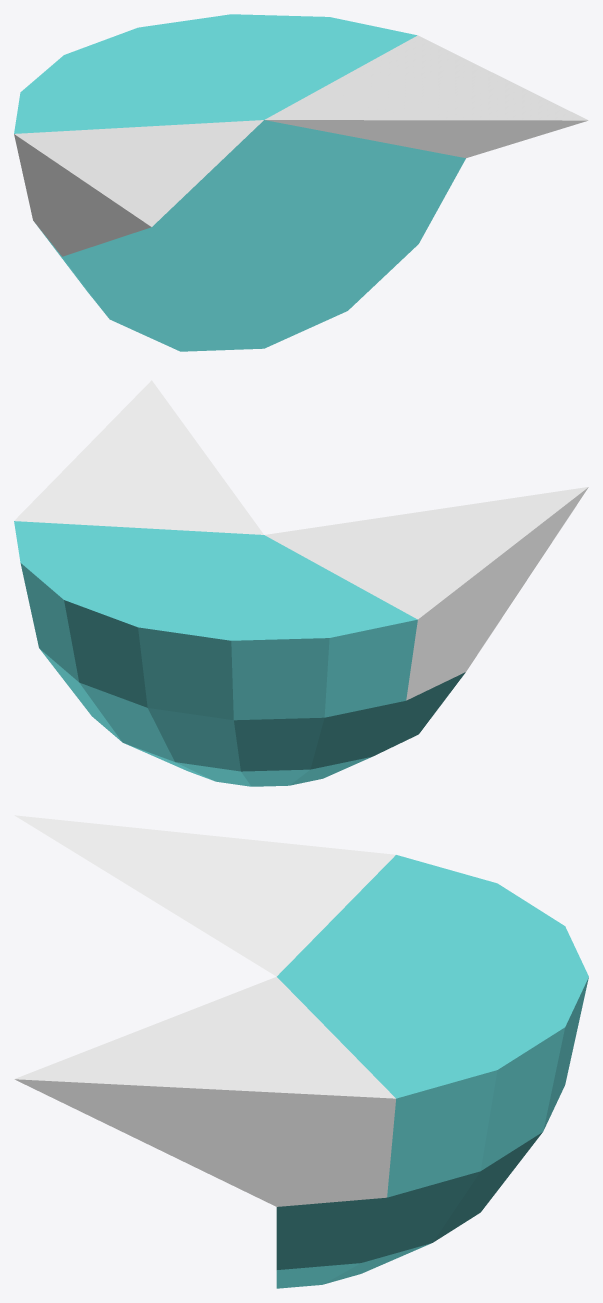
File: Mask.fbx
3 renders of one model, top to bottom at view 1: azimuth 30°, elevation 25°; view 2: azimuth 150°, elevation 25°; view 3: azimuth 270°, elevation 25°, orthographic. The views are drawn at different scales.
Visible parts, largest first — view 1: Sphere; view 2: Sphere; view 3: Sphere.
Boxes of the visible parts, left/top/right/bottom form: Sphere: left=14, top=14, right=588, bottom=351; Sphere: left=14, top=380, right=588, bottom=786; Sphere: left=14, top=815, right=588, bottom=1288.
Size of the model in its own units: 200 by 110 by 184.
